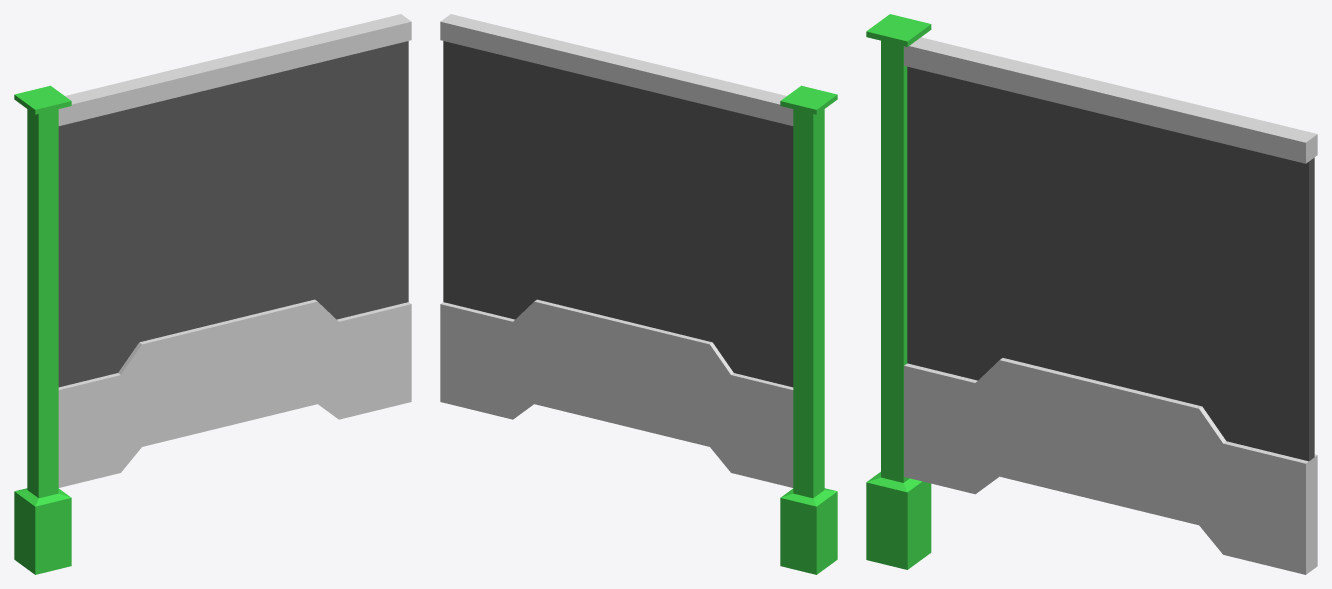
Rendered from FenceElegant00_x1.fbx.
3 views of the same model, side by side, from view 1: azimuth 30°, elevation 25°; view 2: azimuth 150°, elevation 25°; view 3: azimuth 330°, elevation 25° (orthographic). The views are drawn at different scales.
Visible parts, largest first — view 1: FenceElegant00_x1; view 2: FenceElegant00_x1; view 3: FenceElegant00_x1.
Part boxes in pixels (bbox=[...]): FenceElegant00_x1: bbox=[14, 14, 411, 574]; FenceElegant00_x1: bbox=[440, 14, 837, 574]; FenceElegant00_x1: bbox=[866, 14, 1317, 574].
Bounding box in the file's own units: 105 × 122 × 10.
